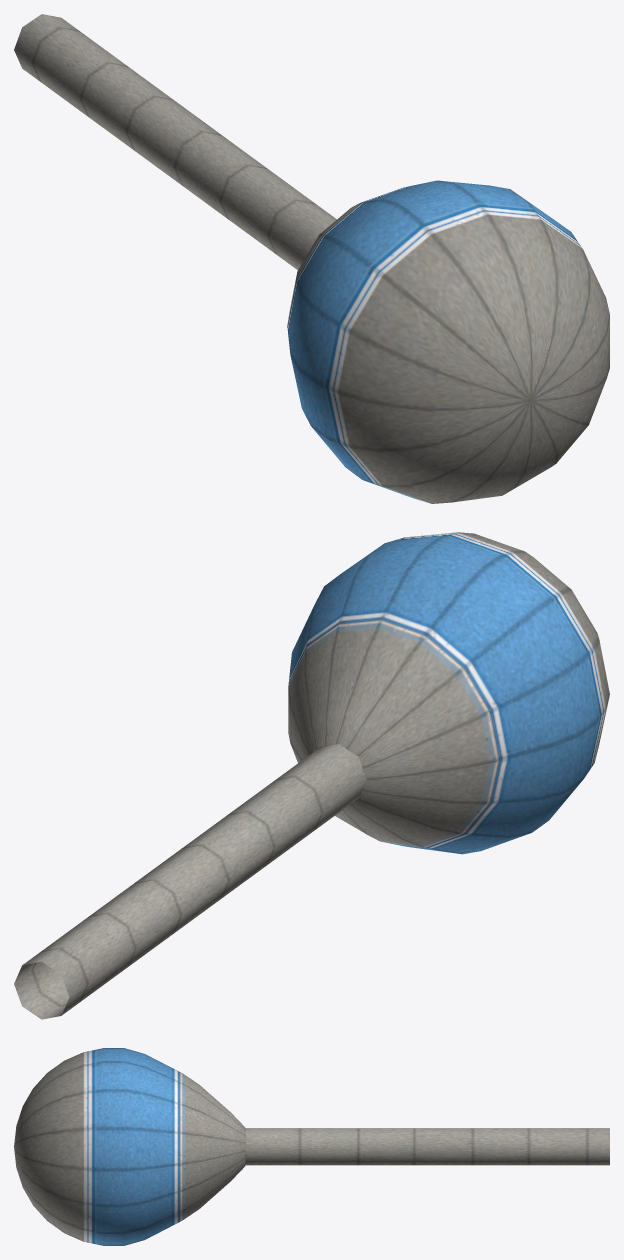
File: watertower.obj
3 renders of one model, top to bottom at view 1: azimuth 30°, elevation 25°; view 2: azimuth 150°, elevation 25°; view 3: azimuth 270°, elevation 25°, orthographic. The views are drawn at different scales.
Parts seen in each view (by area): view 1: watertower; view 2: watertower; view 3: watertower.
Part boxes in pixels (x1,y1,x2,y2): watertower: [14, 14, 609, 503]; watertower: [14, 532, 609, 1019]; watertower: [14, 1048, 609, 1245].
Size of the model in its own units: 10.01 by 10.07 by 30.3.
1 material, 1 textured.
